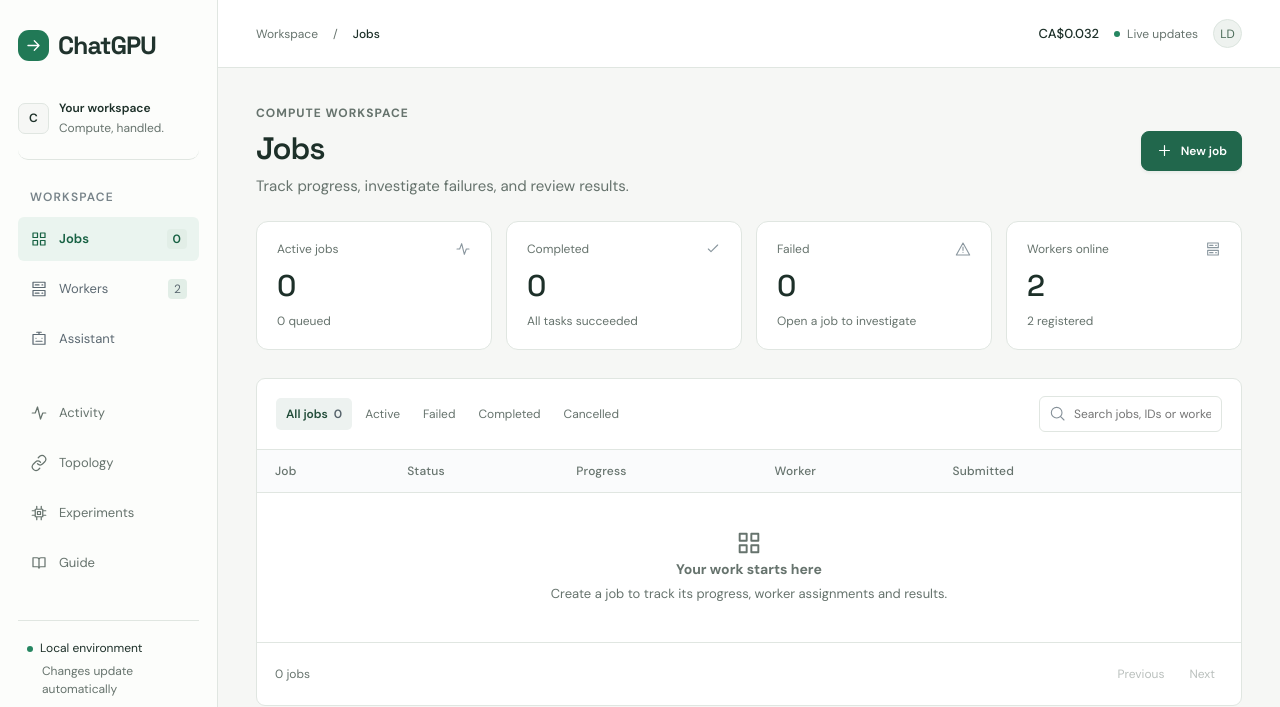
dashboard interactions over pushed updates › keeps estimated spend in the top-right header across pages and live updates
Expected: the element named "Total estimated spend" is shown, [1038,19,1242,48]
Expected: the text "CA$0.032" is shown, [1038,27,1099,40]
Click the button "Workers 2".
click(108, 289)  # box [18,267,199,311]
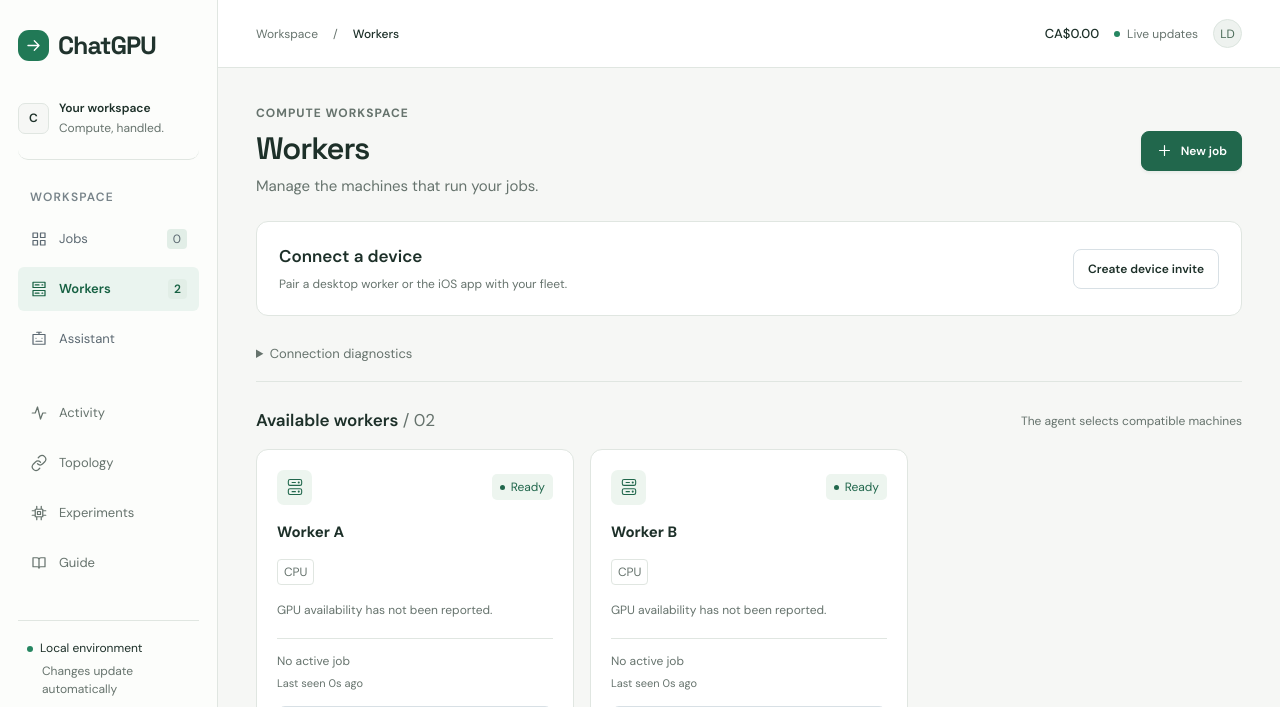
Result: the text "CA$0.00" is shown at [1045,27,1099,40]
